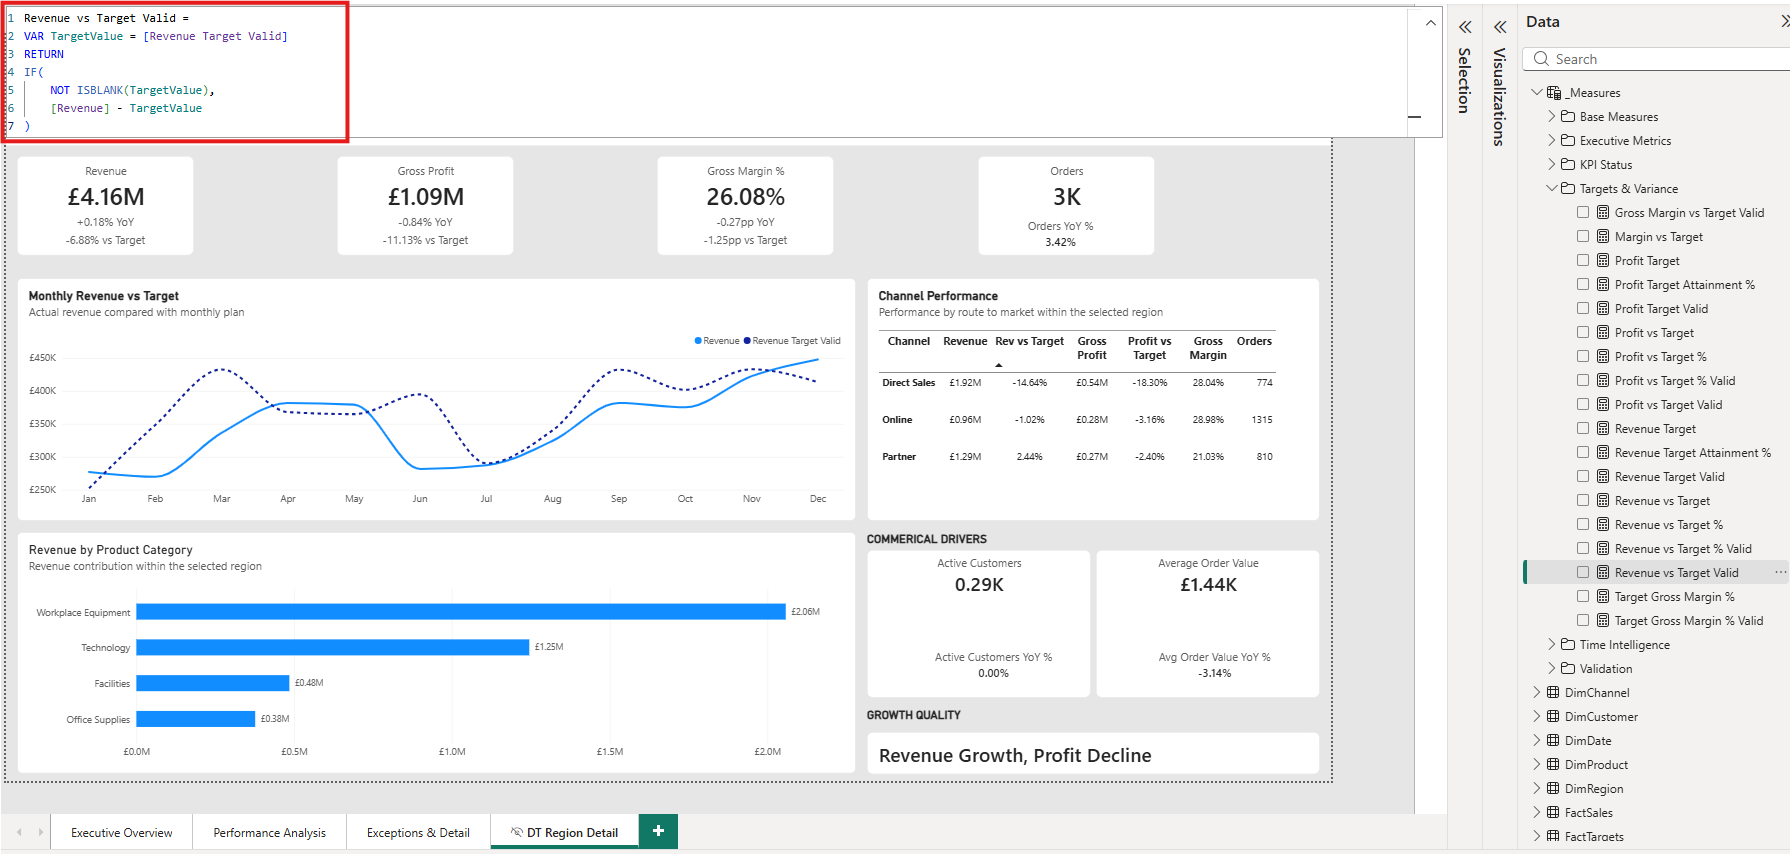

The dashboard page shown, as its layout file describes it:
{"tool":"powerbi","page":{"name":"DT Region Detail","canvas":[1920,1080],"ordinal":3},"visuals":[{"type":"shape","box":[0,0,1920,160],"z":0},{"type":"cardVisual","fields":{"Data":["_Measures.Gross Profit Margin %"]},"box":[944,176,256,144],"z":0,"group":"g1"},{"type":"cardVisual","fields":{"Data":["_Measures.Orders"]},"box":[1408,176,256,144],"z":0,"group":"g4"},{"type":"cardVisual","fields":{"Data":["_Measures.Gross Margin YoY Change","_Measures.Gross Margin vs Target Valid"]},"box":[944,256,256,64],"z":1000,"group":"g1"},{"type":"textbox","box":[10,64,1270,32],"z":2000},{"type":"slicer","fields":{"Values":["DimDate.Year"]},"box":[1600,16,315,65],"z":3000},{"type":"slicer","fields":{"Values":["DimChannel.Channel"]},"box":[1280,16,315,65],"z":4000},{"type":"cardVisual","fields":{"Data":["_Measures.Revenue"]},"box":[16,176,256,144],"z":6000,"group":"g3"},{"type":"cardVisual","fields":{"Data":["_Measures.Gross Profit"]},"box":[480,176,256,144],"z":6000,"group":"g2"},{"type":"lineChart","title":"Monthly Revenue vs Target","fields":{"Category":["DimDate.MonthShort"],"Y":["_Measures.Revenue","_Measures.Revenue Target Valid"]},"box":[16,352,1216,352],"z":6000},{"type":"group","id":"g1","title":"Group 1","box":[944,176,256,144],"z":10000},{"type":"group","id":"g2","title":"Group 2","box":[480,176,256,144],"z":11000},{"type":"group","id":"g3","title":"Group 3","box":[16,176,256,144],"z":12000},{"type":"textbox","box":[10,16,1270,48],"z":12001},{"type":"actionButton","box":[0,0,96,32],"z":12002},{"type":"cardVisual","fields":{"Data":["_Measures.Orders YoY %"]},"box":[1424,256,208,64],"z":12003,"group":"g4"},{"type":"group","id":"g4","title":"Group 4","box":[1408,176,256,144],"z":12004},{"type":"pivotTable","title":"Channel Performance","fields":{"Rows":["DimChannel.Channel"],"Values":["_Measures.Revenue","_Measures.Revenue vs Target % Valid","_Measures.Gross Profit","_Measures.Profit vs Target % Valid","_Measures.Gross Margin %","_Measures.Orders"]},"box":[1248,352,656,352],"z":12005},{"type":"barChart","title":"Revenue by Product Category","fields":{"Category":["DimProduct.Category"],"Y":["_Measures.Revenue"]},"box":[16,720,1216,350],"z":12006},{"type":"cardVisual","title":"COMMERICAL DRIVERS","fields":{"Data":["_Measures.Active Customers","_Measures.Average Order Value"]},"box":[1248,720,656,240],"z":12007},{"type":"cardVisual","fields":{"Data":["_Measures.Active Customers YoY %"]},"box":[1328,880,208,64],"z":12009},{"type":"cardVisual","fields":{"Data":["_Measures.Average Order Value YoY %"]},"box":[1648,880,208,64],"z":12010},{"type":"cardVisual","title":"GROWTH QUALITY","fields":{"Data":["_Measures.Growth Quality"]},"box":[1248,976,656,96],"z":12011},{"type":"cardVisual","fields":{"Data":["_Measures.Revenue YoY %","_Measures.Revenue vs Target % Valid"]},"box":[16,256,256,64],"z":13000,"group":"g3"},{"type":"cardVisual","fields":{"Data":["_Measures.Gross Profit YoY %","_Measures.Profit vs Target % Valid"]},"box":[480,256,256,64],"z":13000,"group":"g2"}]}

Visuals, with their boxes on the page's 1920x1080 design canvas (x1, y1, x2, y2). These are canvas units, not pixel positions in the 1790x854 screenshot, which may show the page scaled, cropped or inside an application window:
shape: 0:0:1920:160
cardVisual - _Measures.Gross Profit Margin %: 944:176:1200:320
cardVisual - _Measures.Orders: 1408:176:1664:320
cardVisual - _Measures.Gross Margin YoY Change x _Measures.Gross Margin vs Target Valid: 944:256:1200:320
textbox: 10:64:1280:96
slicer - DimDate.Year: 1600:16:1915:81
slicer - DimChannel.Channel: 1280:16:1595:81
cardVisual - _Measures.Revenue: 16:176:272:320
cardVisual - _Measures.Gross Profit: 480:176:736:320
"Monthly Revenue vs Target" lineChart: 16:352:1232:704
"Group 1" group: 944:176:1200:320
"Group 2" group: 480:176:736:320
"Group 3" group: 16:176:272:320
textbox: 10:16:1280:64
actionButton: 0:0:96:32
cardVisual - _Measures.Orders YoY %: 1424:256:1632:320
"Group 4" group: 1408:176:1664:320
"Channel Performance" pivotTable: 1248:352:1904:704
"Revenue by Product Category" barChart: 16:720:1232:1070
"COMMERICAL DRIVERS" cardVisual: 1248:720:1904:960
cardVisual - _Measures.Active Customers YoY %: 1328:880:1536:944
cardVisual - _Measures.Average Order Value YoY %: 1648:880:1856:944
"GROWTH QUALITY" cardVisual: 1248:976:1904:1072
cardVisual - _Measures.Revenue YoY % x _Measures.Revenue vs Target % Valid: 16:256:272:320
cardVisual - _Measures.Gross Profit YoY % x _Measures.Profit vs Target % Valid: 480:256:736:320
